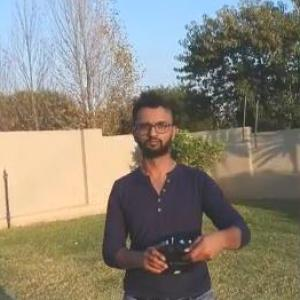follow: (98, 86, 256, 299)
